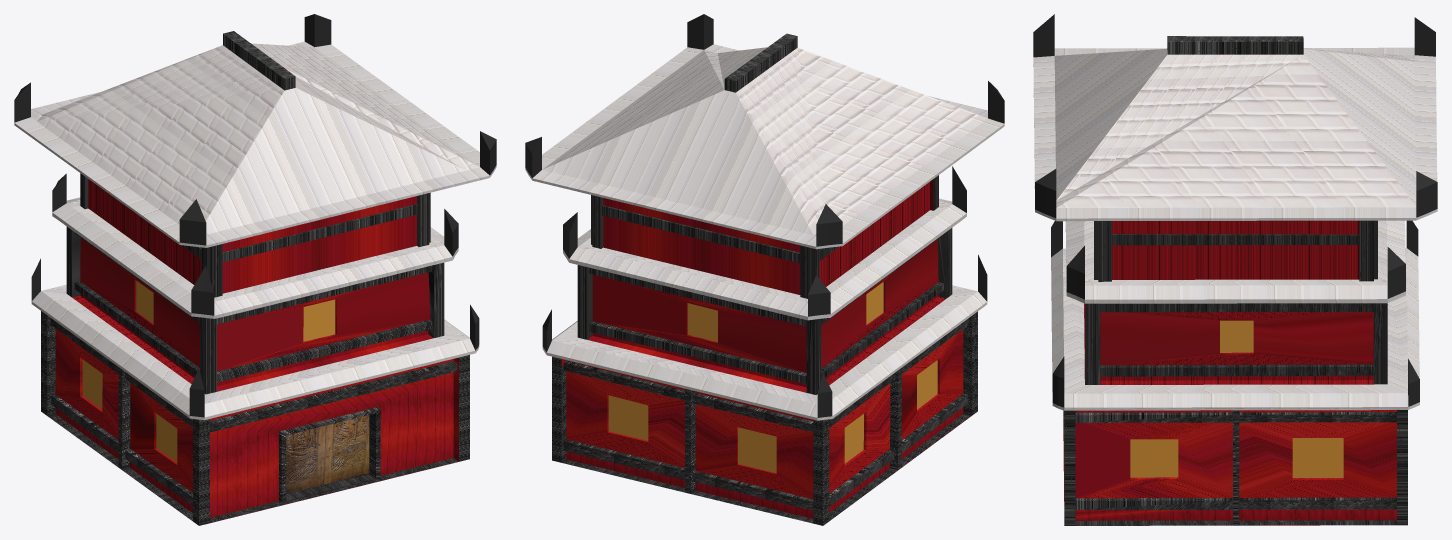
The model's file is exterior.fbx.
3 renders of one model, left to right at view 1: azimuth 30°, elevation 25°; view 2: azimuth 150°, elevation 25°; view 3: azimuth 270°, elevation 25°, orthographic. The views are drawn at different scales.
Visible parts, largest first — view 1: Castle; view 2: Castle; view 3: Castle.
Part boxes in pixels (x1,y1,x2,y2): Castle: (14, 14, 496, 525); Castle: (525, 14, 1004, 525); Castle: (1033, 14, 1437, 525).
Size of the model in its own units: 25.79 by 29.28 by 25.79.
5 materials, 4 textured.
